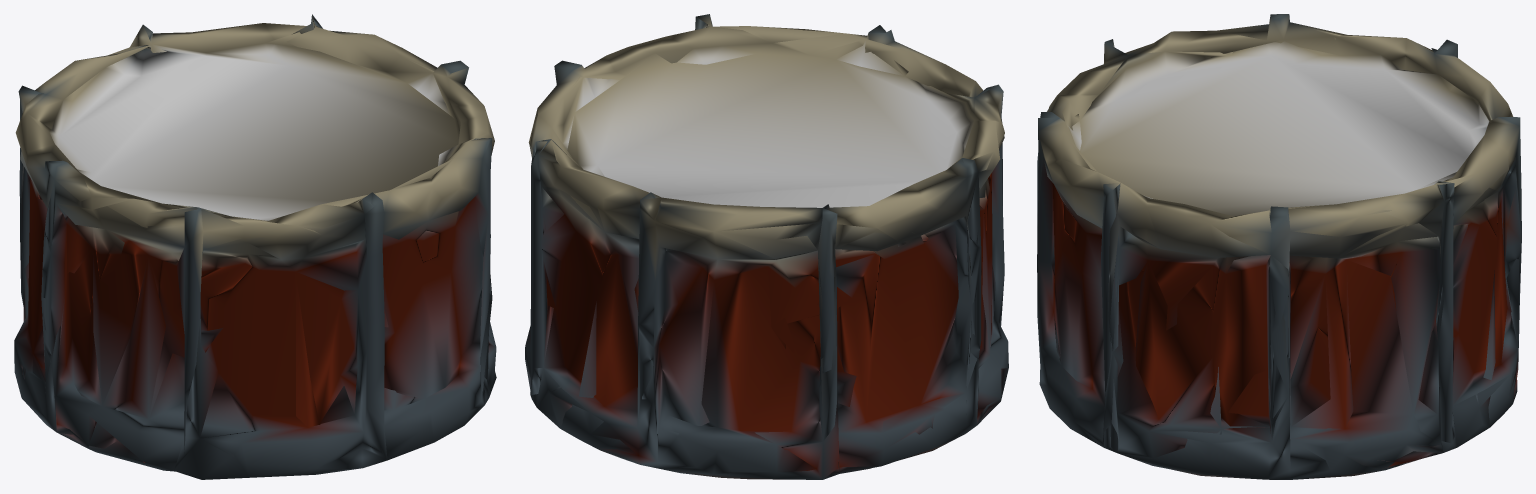
File: gen3d-tambourine-lod0.glb
The picture shows the model from 3 angles, left to right: view 1: azimuth 30°, elevation 25°; view 2: azimuth 150°, elevation 25°; view 3: azimuth 270°, elevation 25°; orthographic projection.
Parts seen in each view (by area): view 1: part_0; view 2: part_0; view 3: part_0.
Part boxes in pixels (box(x1,y1,x2,y2)): part_0: box(14, 14, 496, 479); part_0: box(525, 14, 1008, 479); part_0: box(1037, 14, 1521, 479).
Size of the model in its own units: 1.6 by 0.9966 by 1.59.
